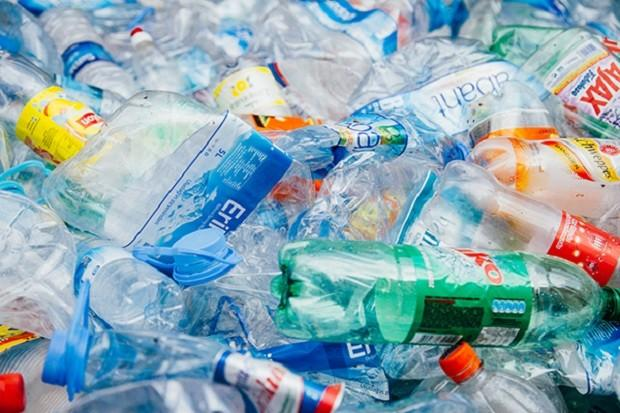HDPE: (37, 280, 94, 406), (129, 226, 246, 286), (439, 340, 483, 385), (0, 372, 26, 413)
PETE: (39, 89, 317, 266), (266, 237, 620, 351), (419, 158, 620, 290), (467, 137, 620, 220), (516, 25, 620, 138)
PP: (121, 110, 293, 266), (347, 57, 556, 146), (407, 243, 532, 350), (16, 84, 103, 167), (543, 207, 620, 292)
